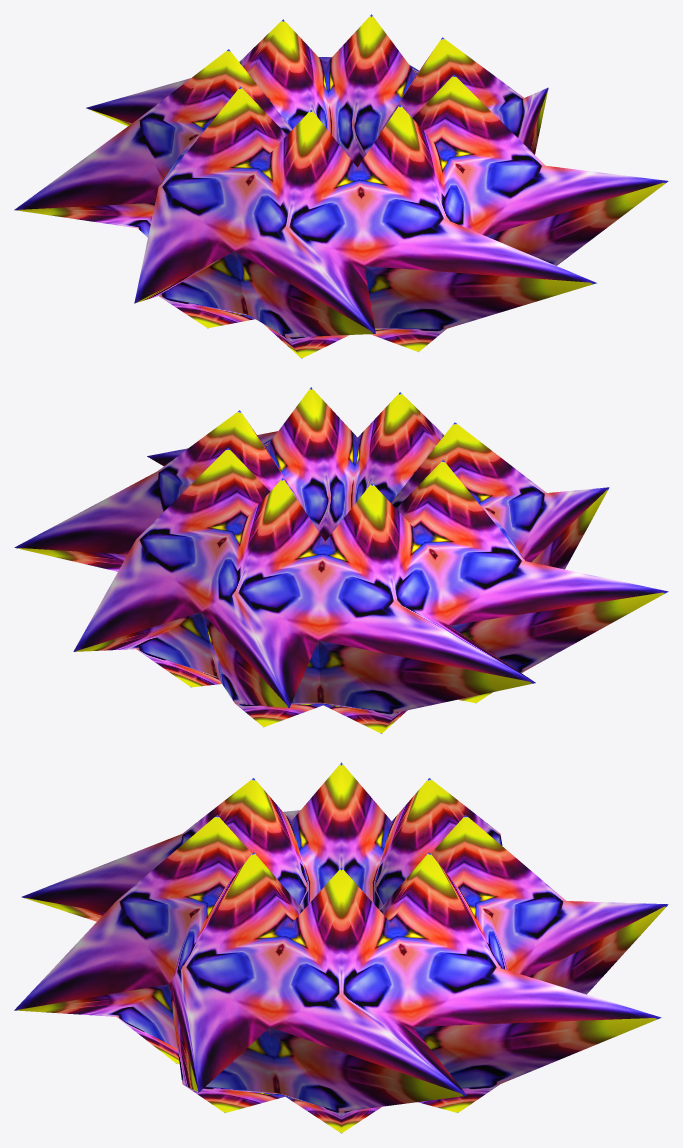
File: ufo-10.fbx
3 views of the same model, one above another, from view 1: azimuth 30°, elevation 25°; view 2: azimuth 150°, elevation 25°; view 3: azimuth 270°, elevation 25° (orthographic). The views are drawn at different scales.
Parts seen in each view (by area): view 1: ufo-10; view 2: ufo-10; view 3: ufo-10.
Part boxes in pixels (left/top/right/bottom): ufo-10: left=14, top=14, right=668, bottom=358; ufo-10: left=14, top=387, right=668, bottom=733; ufo-10: left=14, top=762, right=668, bottom=1133.
Bounding box in the file's own units: 80.73 × 33.88 × 80.73.
